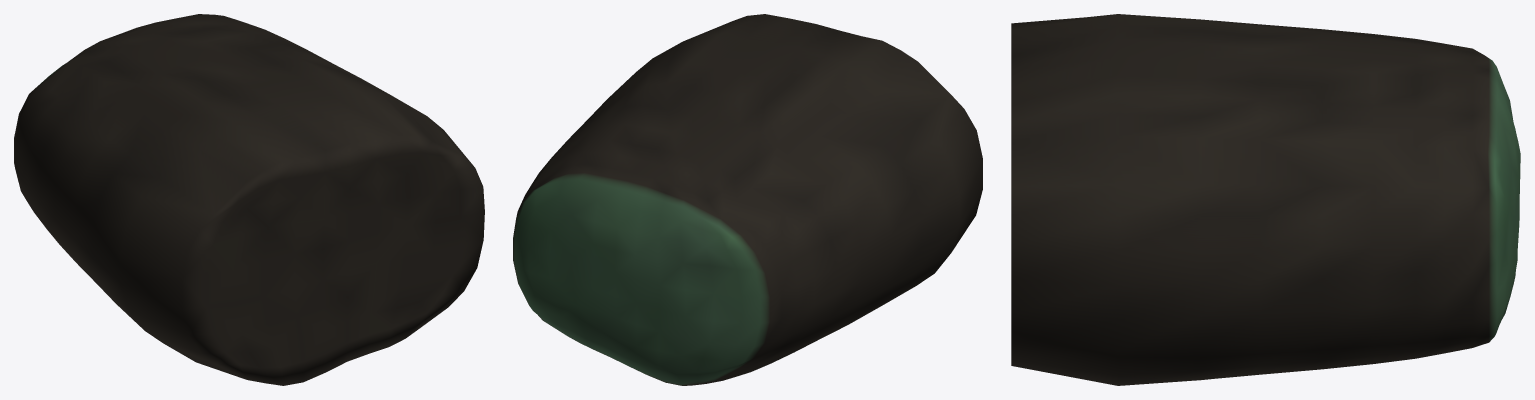
File: GreenHillHuge.001.glb
The picture shows the model from 3 angles, left to right: view 1: azimuth 30°, elevation 25°; view 2: azimuth 150°, elevation 25°; view 3: azimuth 270°, elevation 25°; orthographic projection. The views are drawn at different scales.
Parts seen in each view (by area): view 1: GreenHillHuge.001; view 2: GreenHillHuge.001; view 3: GreenHillHuge.001.
Part boxes in pixels (<box>): GreenHillHuge.001: <box>14,14,484,385</box>; GreenHillHuge.001: <box>513,14,982,385</box>; GreenHillHuge.001: <box>1011,14,1520,385</box>.
Bounding box in the file's own units: 2243 × 1607 × 2323.
